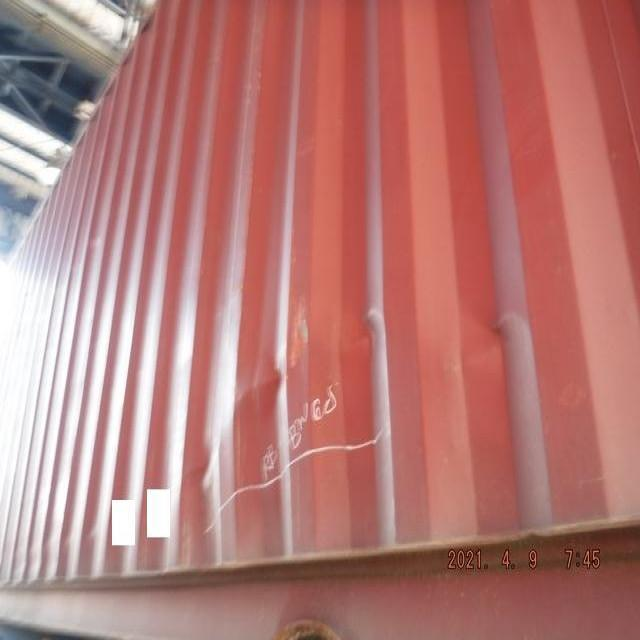Dent: (173, 296, 401, 523)
Minor-Dent: (440, 279, 560, 404)
